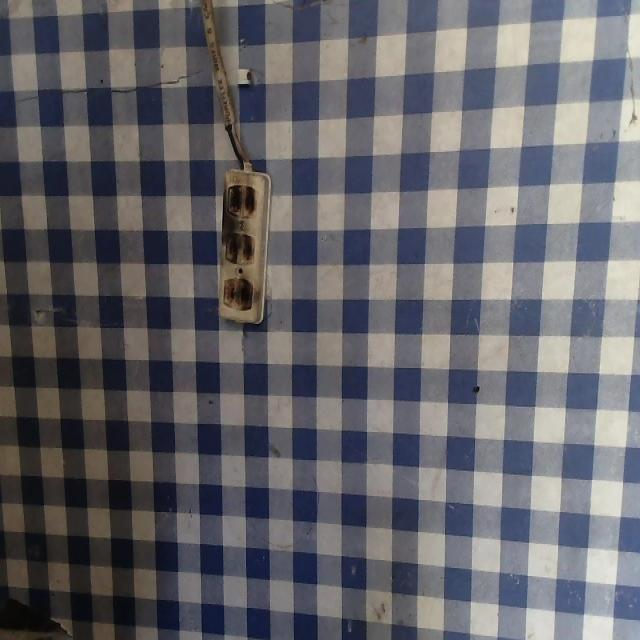-: (222, 172, 265, 219), (218, 227, 260, 272), (221, 266, 261, 310)
